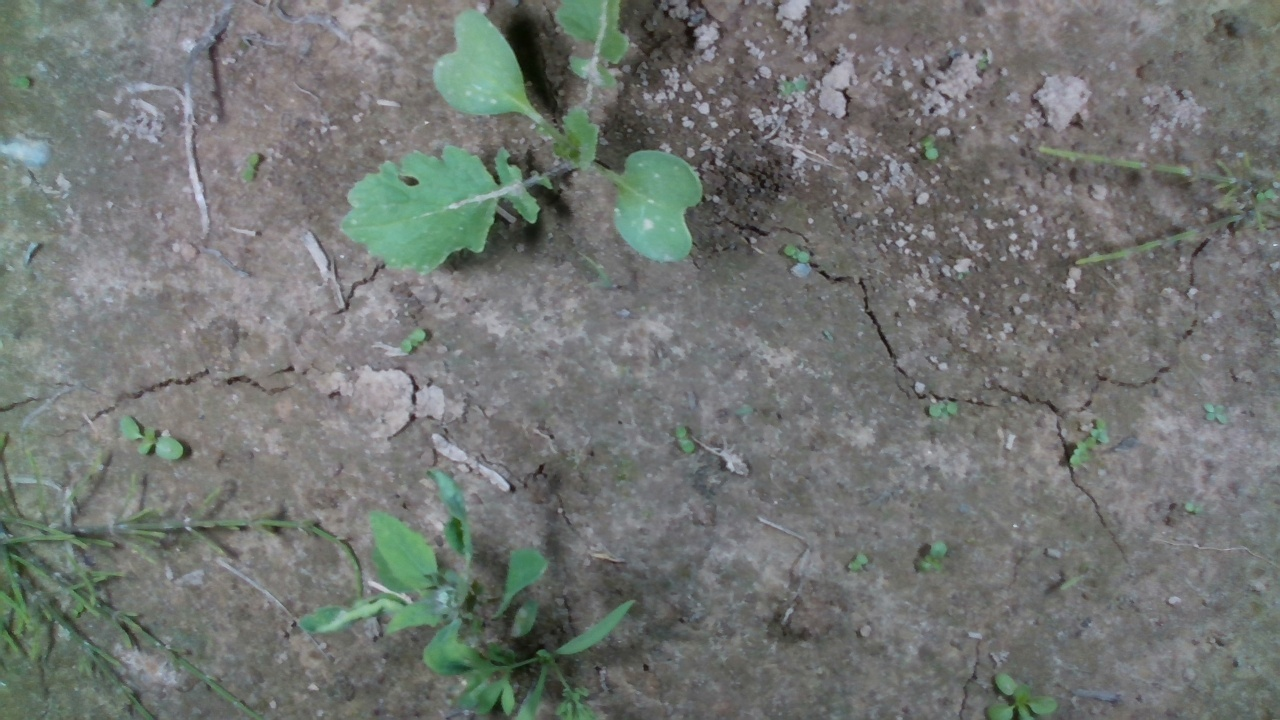weed: (118, 413, 184, 462), (913, 540, 949, 574), (925, 396, 959, 420), (399, 327, 426, 354), (781, 242, 811, 266), (673, 423, 694, 454), (1202, 402, 1228, 427), (917, 133, 939, 161), (242, 150, 260, 183), (847, 552, 868, 573), (9, 74, 34, 91), (1184, 501, 1205, 517)
